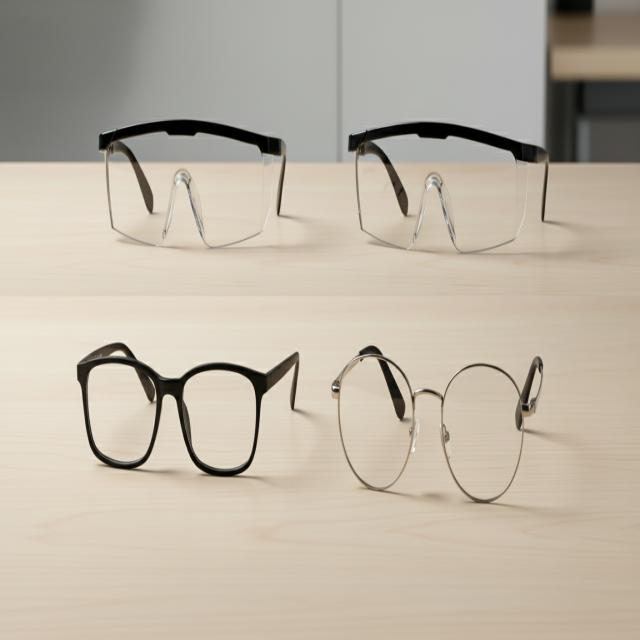oculos-epi: (348, 122, 548, 252), (100, 120, 286, 247)
sem_oculos: (332, 347, 543, 502), (77, 343, 299, 476)
